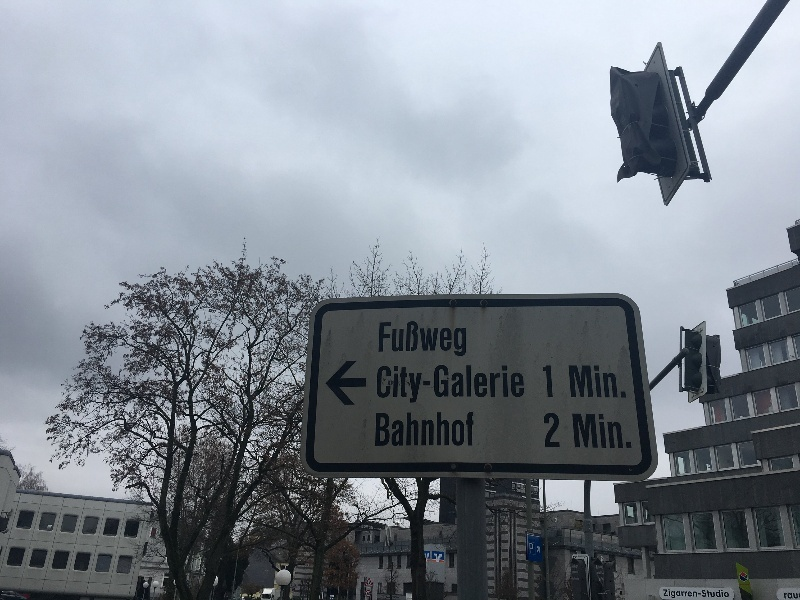text: (385, 365, 400, 405), (401, 365, 416, 405), (417, 365, 432, 405), (433, 365, 448, 405), (449, 365, 464, 405), (465, 365, 480, 405), (481, 365, 496, 405), (497, 365, 512, 405), (385, 321, 400, 357), (401, 321, 416, 357), (417, 321, 432, 357), (433, 321, 448, 357), (449, 321, 464, 357), (385, 411, 400, 447), (401, 411, 416, 447), (417, 411, 432, 447), (433, 411, 448, 447), (449, 411, 464, 447), (577, 413, 592, 449), (593, 413, 608, 449), (609, 413, 624, 449), (577, 365, 592, 399), (593, 365, 608, 399), (609, 365, 624, 399), (545, 413, 560, 447), (513, 365, 525, 405), (465, 411, 474, 447), (376, 411, 384, 447), (377, 365, 384, 405), (568, 365, 576, 399), (545, 365, 553, 398), (625, 413, 632, 449), (379, 321, 384, 357), (530, 543, 544, 554), (572, 413, 576, 449), (434, 553, 448, 563), (673, 590, 688, 599), (689, 590, 704, 599), (705, 590, 720, 599), (785, 593, 799, 600), (663, 590, 672, 599), (721, 590, 730, 599), (465, 321, 467, 357), (596, 565, 608, 571), (424, 553, 432, 562), (625, 365, 627, 399), (629, 468, 640, 472), (598, 578, 608, 582), (543, 413, 544, 447), (543, 365, 544, 398), (597, 572, 608, 575), (187, 581, 192, 586), (572, 565, 576, 569), (572, 571, 576, 575), (572, 577, 576, 581), (577, 565, 579, 569), (577, 571, 579, 575), (577, 577, 579, 581), (367, 592, 368, 596), (369, 592, 370, 596)
